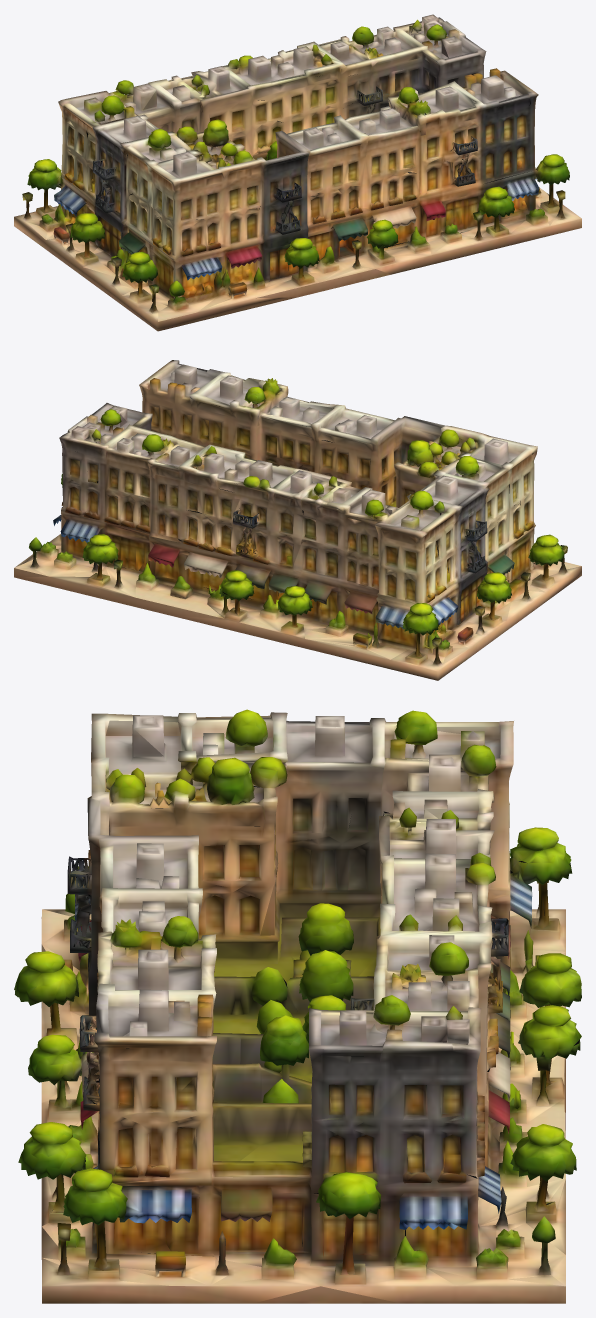
The model's file is block-soho-a.glb.
The picture shows the model from 3 angles, top to bottom: view 1: azimuth 30°, elevation 25°; view 2: azimuth 150°, elevation 25°; view 3: azimuth 270°, elevation 25°; orthographic projection. The views are drawn at different scales.
Visible parts, largest first — view 1: low; view 2: low; view 3: low.
Boxes of the visible parts, <box> form: low: <box>14,14,581,331</box>; low: <box>14,360,581,680</box>; low: <box>14,709,581,1303</box>.
Size of the model in its own units: 0.979 by 0.3085 by 0.5989.
1 material, 1 textured.
